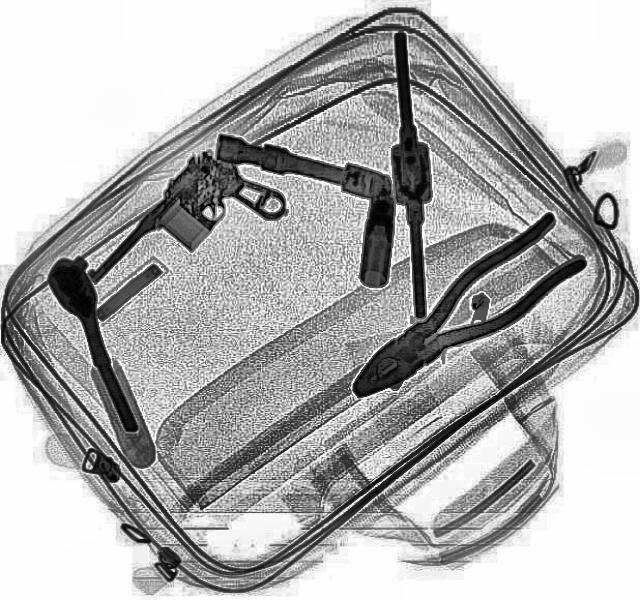Gun: (80, 138, 292, 332)
Pliers: (328, 207, 596, 419)
